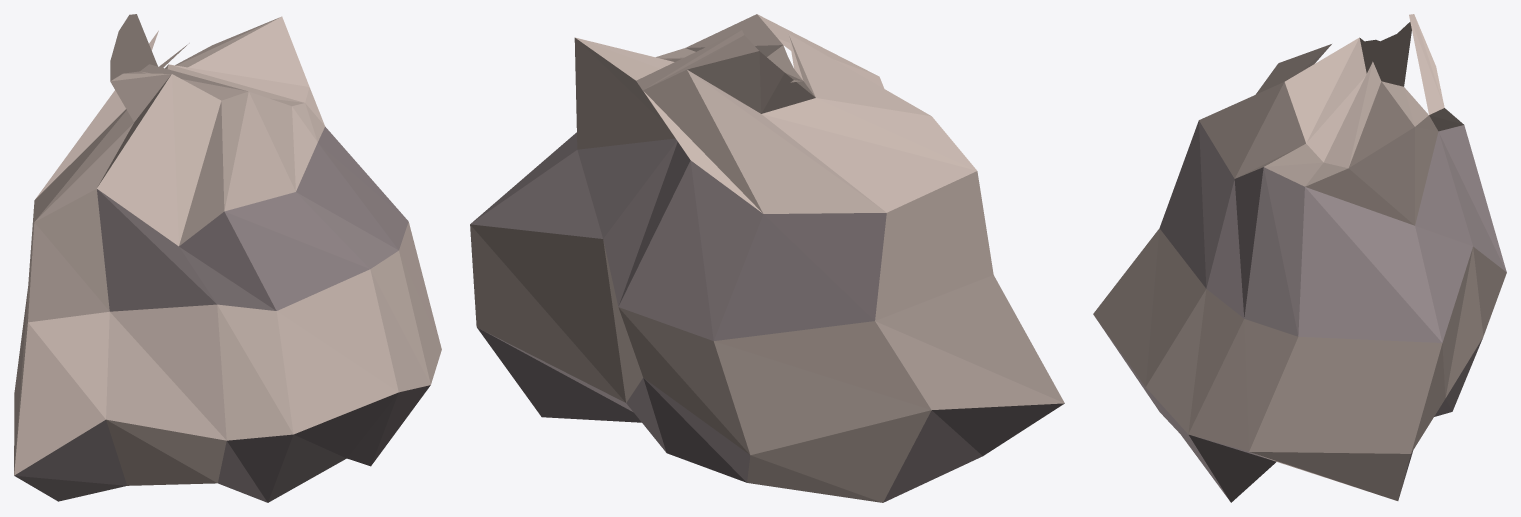
File: eroded_boulder_1.glb
The picture shows the model from 3 angles, left to right: view 1: azimuth 30°, elevation 25°; view 2: azimuth 150°, elevation 25°; view 3: azimuth 270°, elevation 25°; orthographic projection. The views are drawn at different scales.
Parts seen in each view (by area): view 1: eroded_boulder_1; view 2: eroded_boulder_1; view 3: eroded_boulder_1.
Boxes of the visible parts, box(x1,y1,x2,y2) form: eroded_boulder_1: box(14, 14, 441, 502); eroded_boulder_1: box(470, 14, 1064, 502); eroded_boulder_1: box(1093, 14, 1506, 502).
Bounding box in the file's own units: 1.23 × 1.11 × 0.9939.
